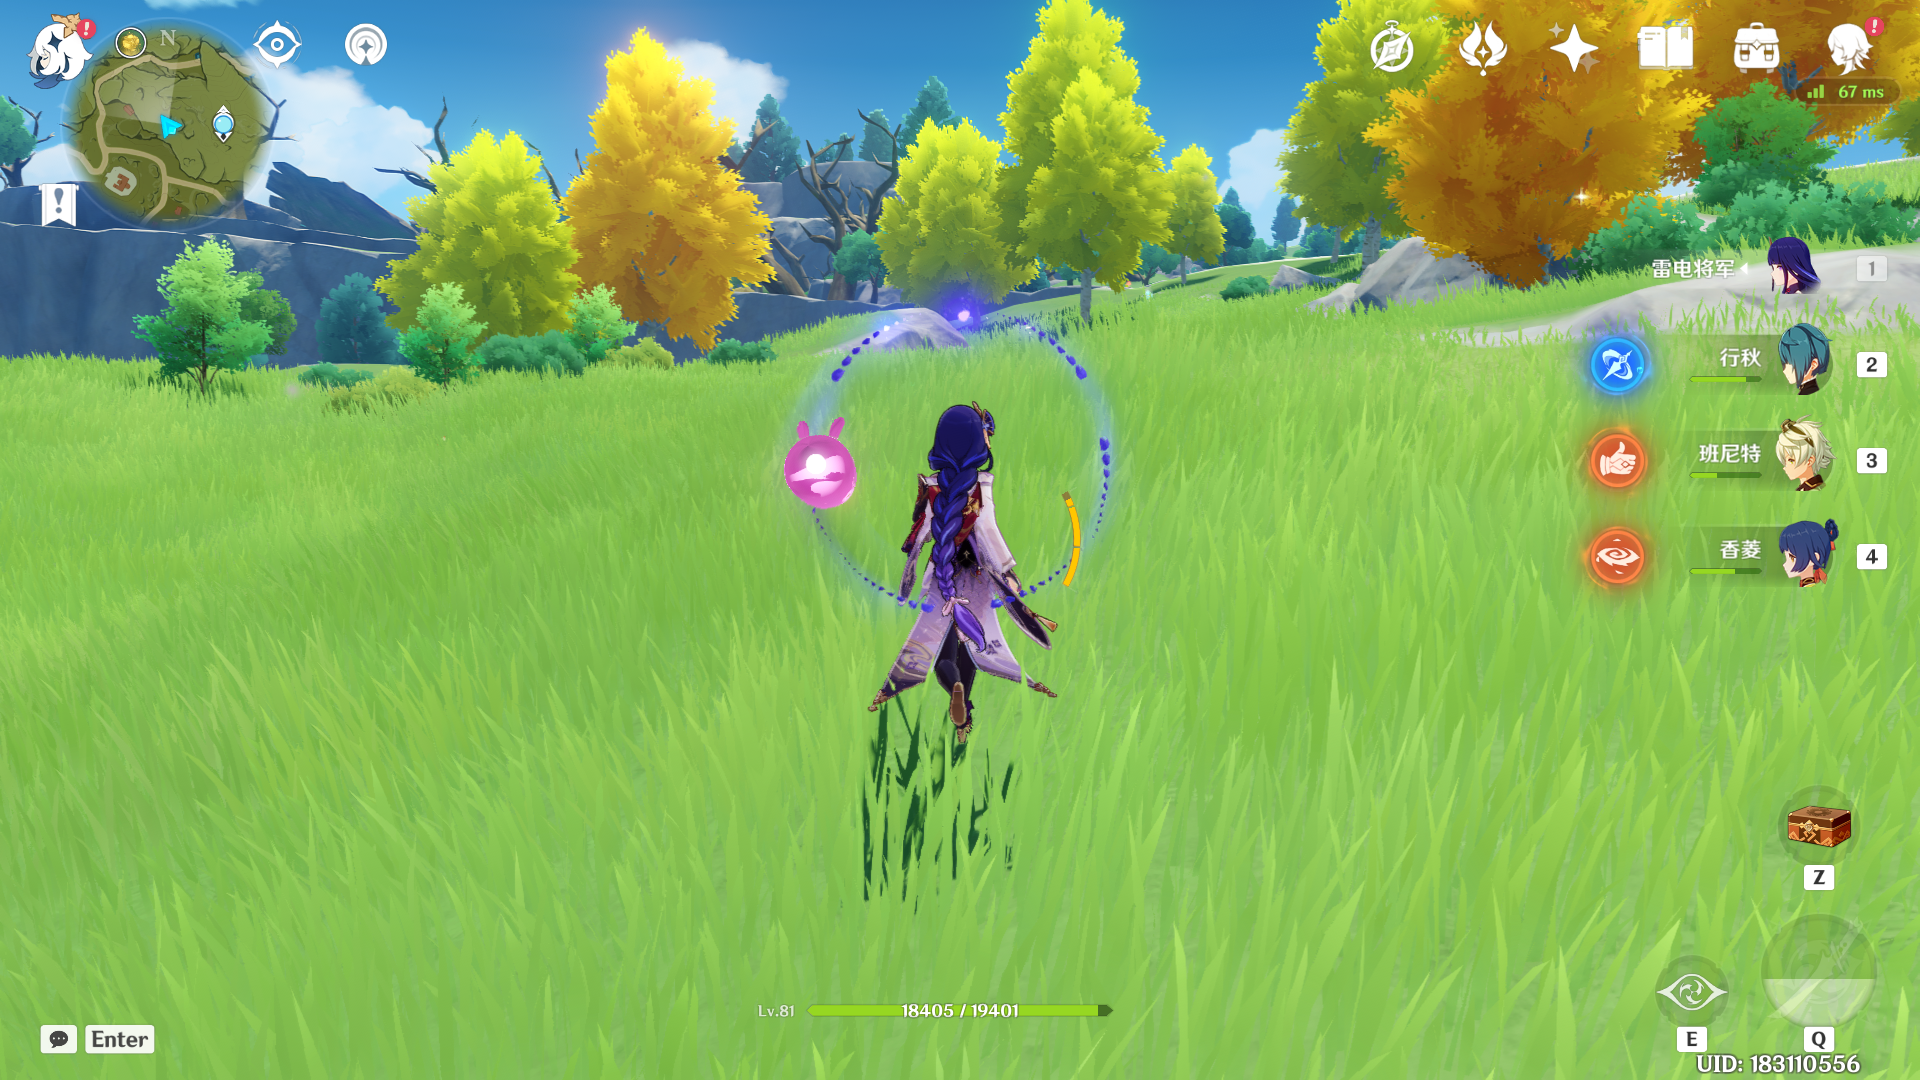character: (829, 375, 1125, 764)
